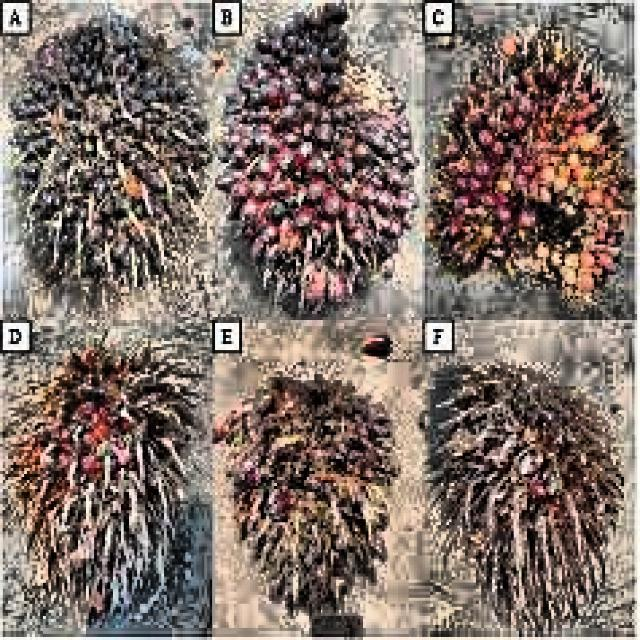FFB: (235, 4, 412, 304), (16, 21, 207, 290), (436, 35, 624, 306), (17, 343, 190, 624), (445, 375, 623, 628), (219, 378, 398, 607)
